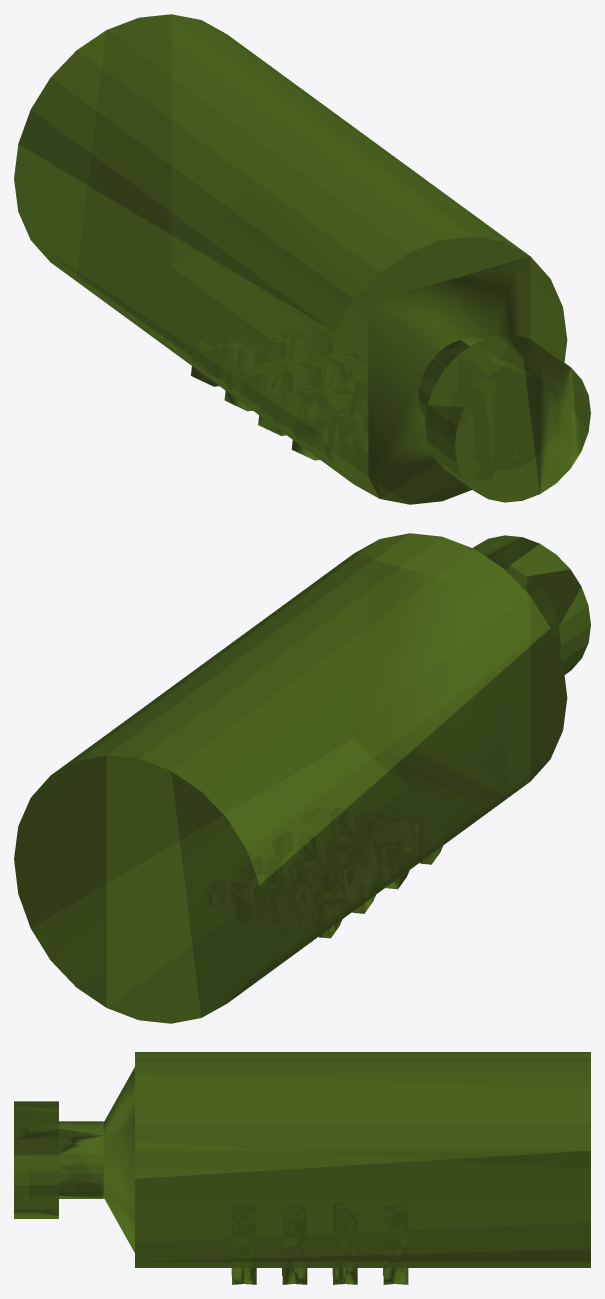
File: model_align.obj
3 views of the same model, one above another, from view 1: azimuth 30°, elevation 25°; view 2: azimuth 150°, elevation 25°; view 3: azimuth 270°, elevation 25° (orthographic). The views are drawn at different scales.
Size of the model in its own units: 0.0474 by 0.0488 by 0.1262.
